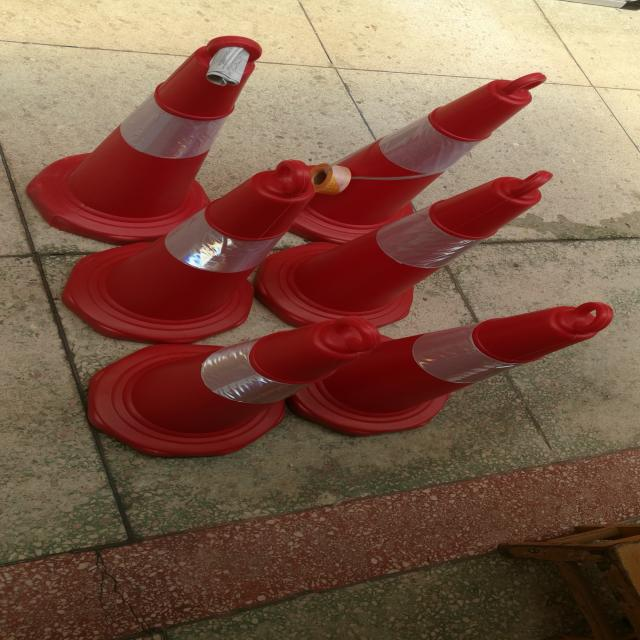reflective_cone: (31, 35, 264, 247), (60, 154, 317, 344), (252, 166, 553, 327), (293, 301, 620, 441), (292, 69, 548, 241), (82, 316, 373, 460)
